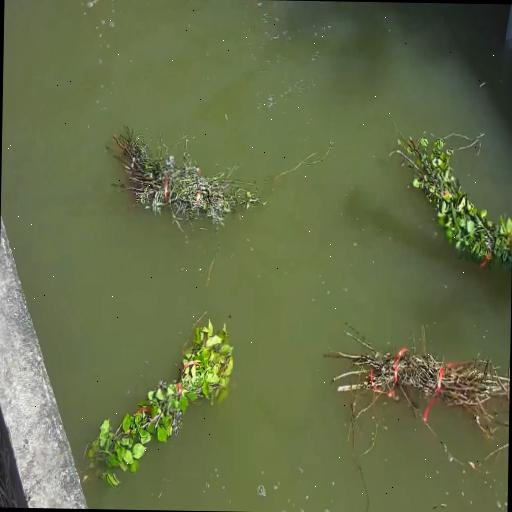twig: (86, 312, 244, 489), (331, 325, 511, 426), (400, 120, 512, 272), (112, 128, 258, 222)
